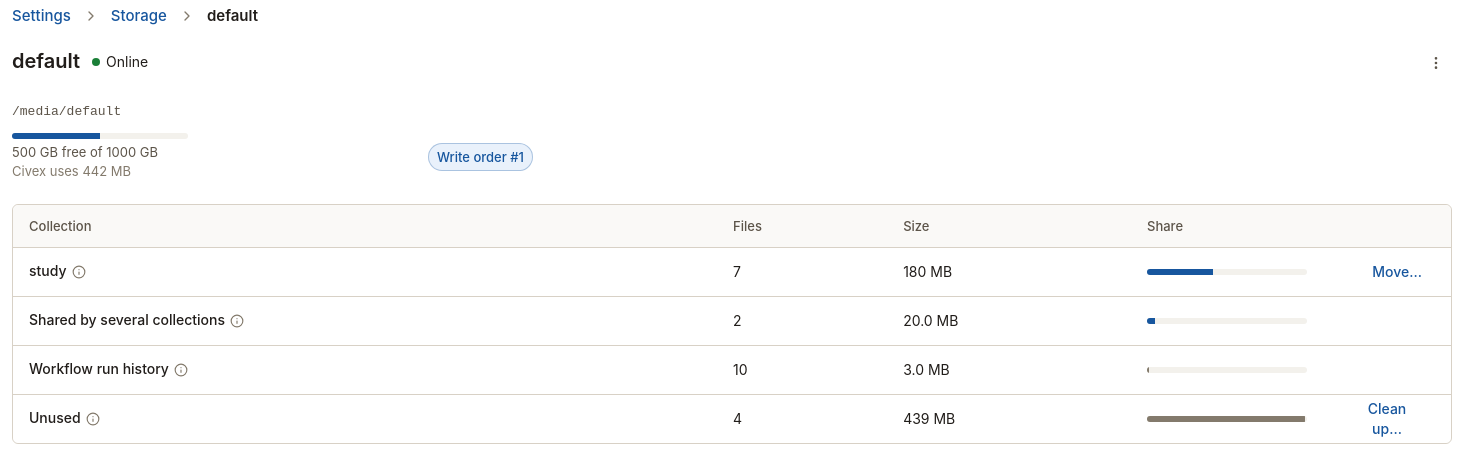
Test: a volume’s page › says where the volume sits in the write queue
This screenshot has width=1464, height=461.
Check: the text "Write order #1" is shown, box [428,142,533,171]
Click the button named "More actions": {"x": 1436, "y": 63} [1420,47,1452,79]
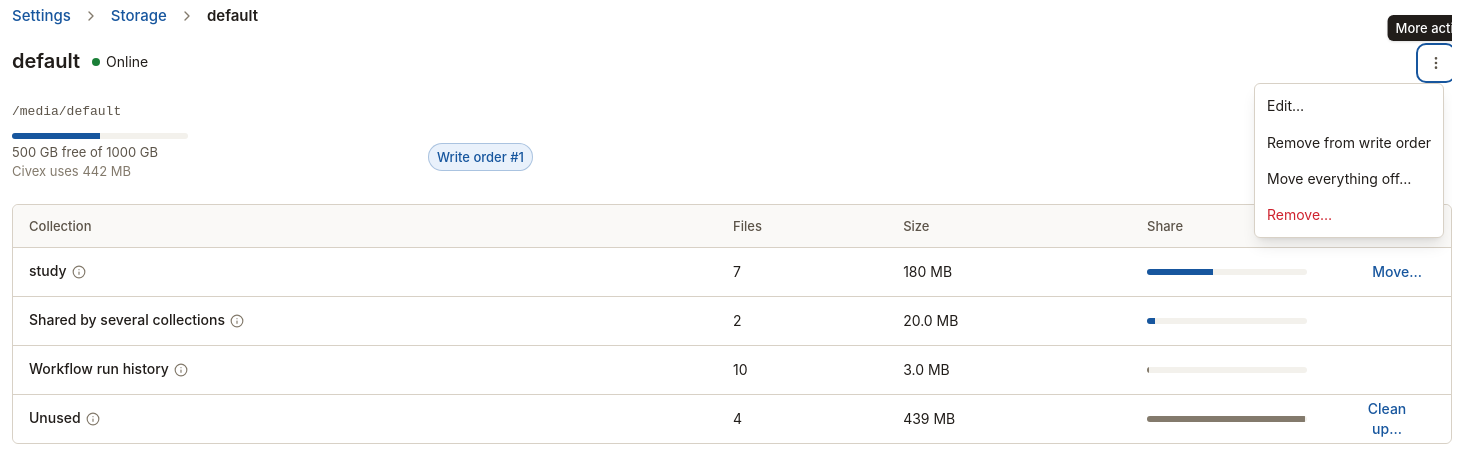
Check: the menu item "Remove from write order" is shown, box [1255,124,1443,161]
